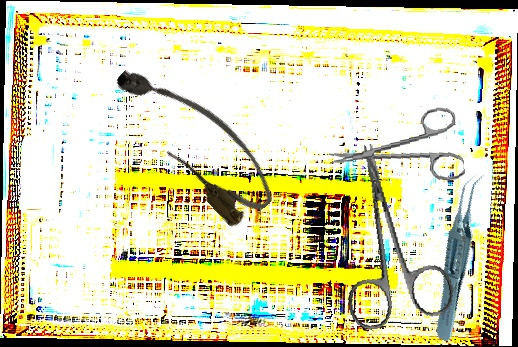Cannula: (105, 43, 286, 234)
Iris Scissors: (319, 133, 458, 333), (325, 105, 466, 193)
Tissue Forceps: (403, 169, 518, 344)
